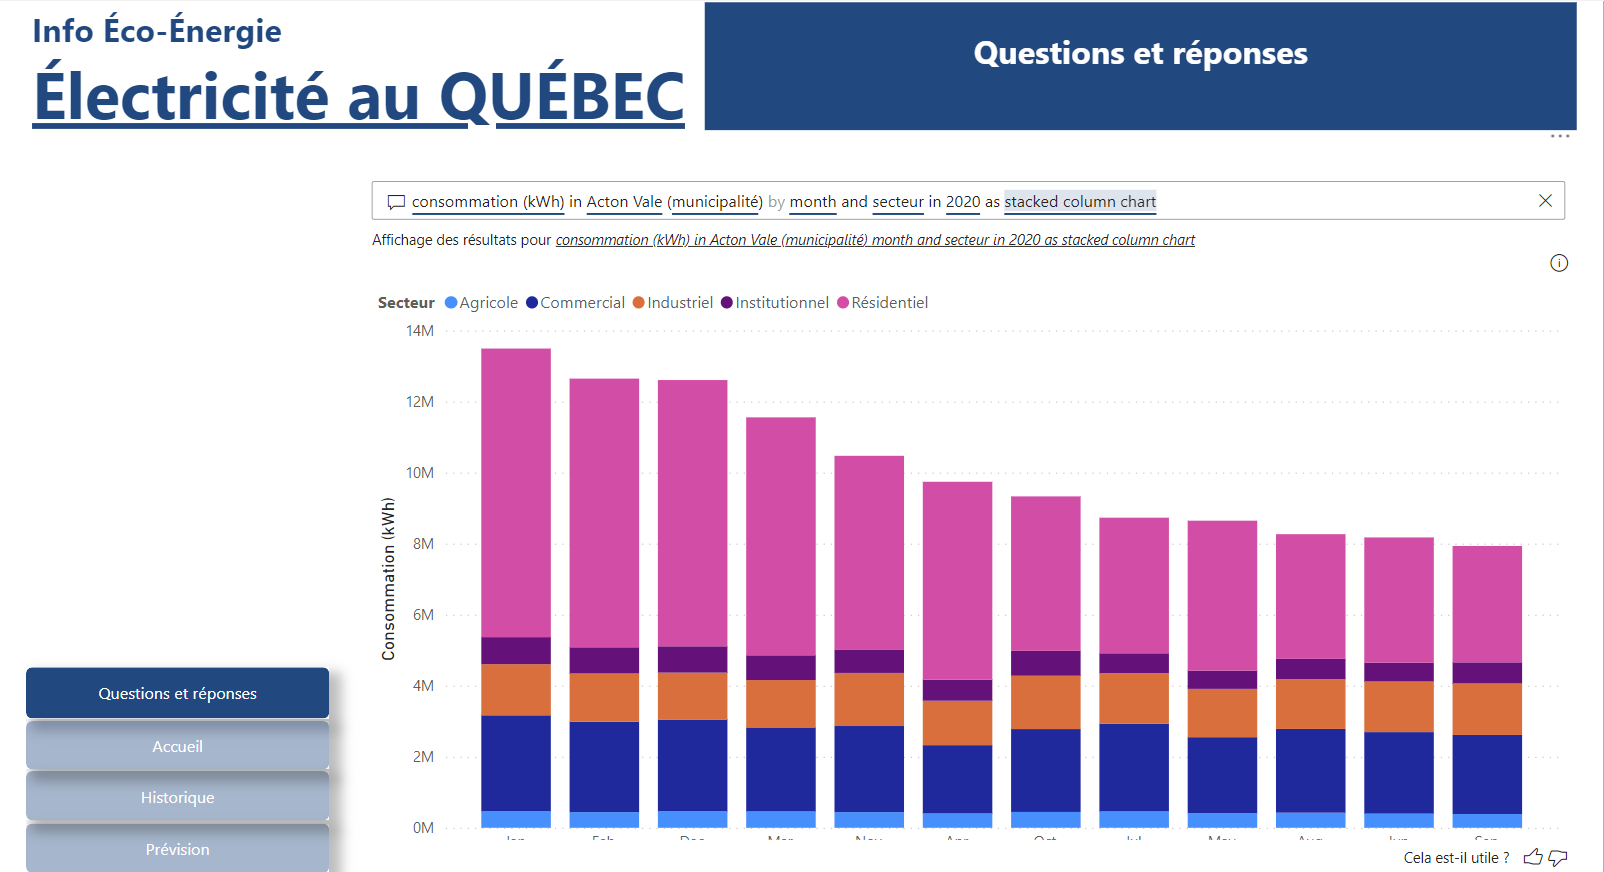

The page's visual inventory and layout, read from the dashboard file:
{"tool":"powerbi","page":{"name":"Questions et réponses","canvas":[1280,720],"ordinal":5},"visuals":[{"type":"textbox","box":[10,0,280,280],"z":0},{"type":"qnaVisual","box":[277,124,1003,596],"z":1000},{"type":"textbox","box":[0,0,640.5,143.7],"z":2000},{"type":"textbox","box":[559.9,1.2,720.1,106],"z":3000},{"type":"actionButton","box":[0,550,250.5,42.1],"z":4000},{"type":"actionButton","box":[0,679.4,250.4,40.6],"z":5000},{"type":"actionButton","box":[0,636.3,250.5,40.9],"z":6000},{"type":"actionButton","box":[0,594.3,250.5,39.7],"z":7000}]}

Visuals, with their boxes on the page's 1280x720 design canvas (x1, y1, x2, y2). These are canvas units, not pixel positions in the 1604x872 screenshot, which may show the page scaled, cropped or inside an application window:
textbox: box=[10, 0, 290, 280]
qnaVisual: box=[277, 124, 1280, 720]
textbox: box=[0, 0, 640, 144]
textbox: box=[560, 1, 1280, 107]
actionButton: box=[0, 550, 250, 592]
actionButton: box=[0, 679, 250, 720]
actionButton: box=[0, 636, 250, 677]
actionButton: box=[0, 594, 250, 634]
